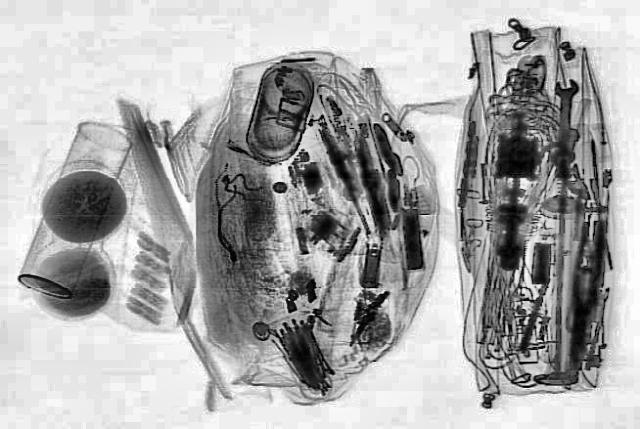Pliers: (558, 219, 612, 369)
Wrench: (550, 78, 580, 164)
